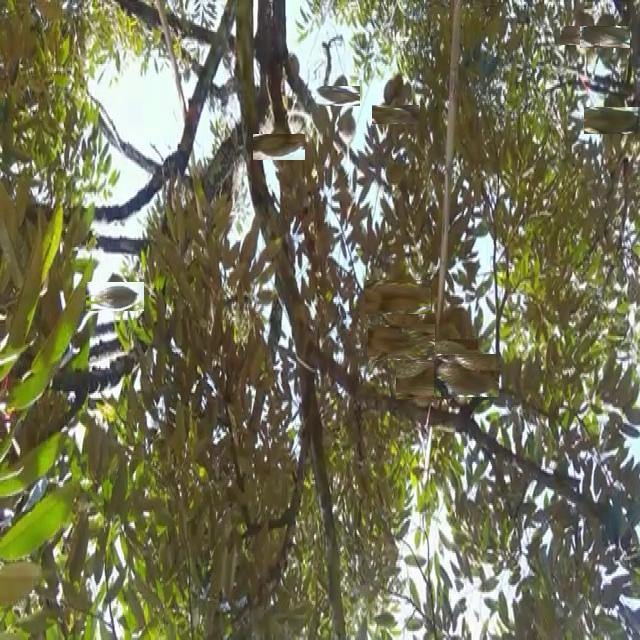durian: (439, 348, 494, 402), (418, 332, 471, 385), (376, 316, 428, 369), (373, 271, 424, 322), (401, 357, 448, 405), (94, 274, 138, 319), (592, 98, 635, 142), (259, 128, 298, 167), (586, 19, 623, 55), (567, 18, 601, 52), (379, 97, 412, 131), (321, 80, 354, 112), (280, 47, 301, 91), (334, 108, 356, 149)
